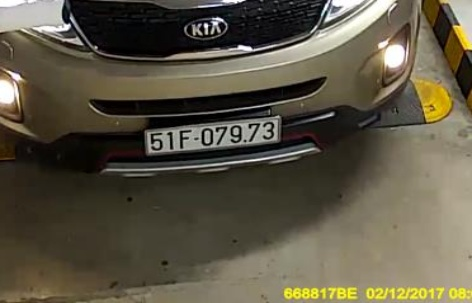plate: (140, 113, 284, 148)
